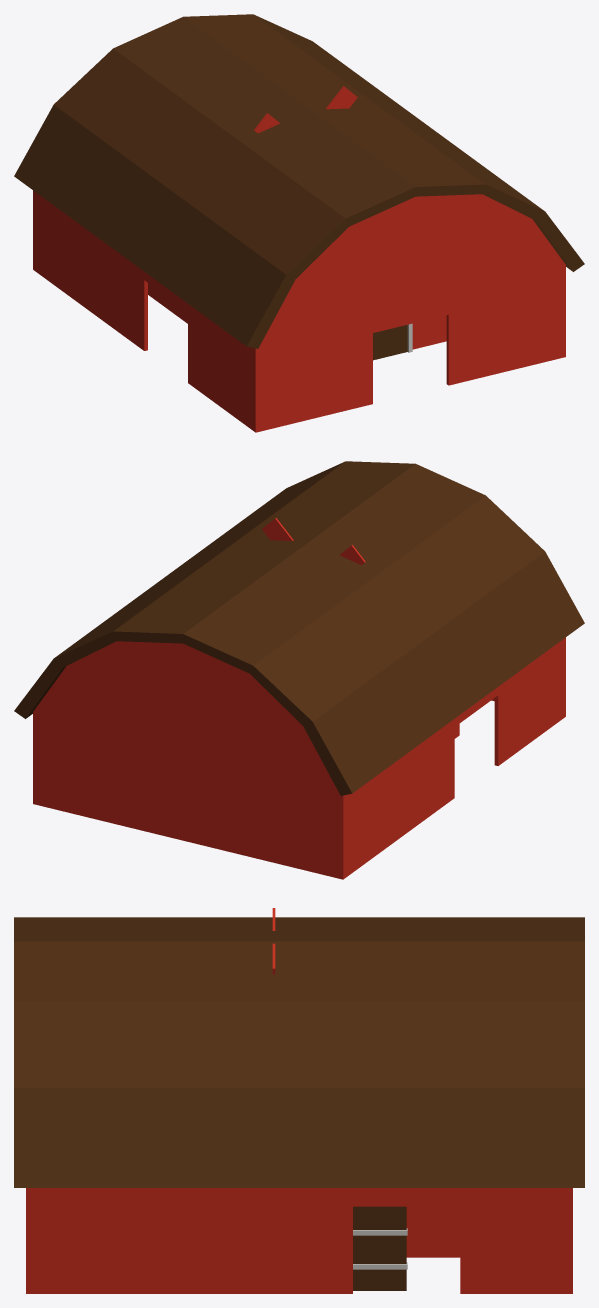
Rendered from Barn.fbx.
3 renders of one model, top to bottom at view 1: azimuth 30°, elevation 25°; view 2: azimuth 150°, elevation 25°; view 3: azimuth 270°, elevation 25°, orthographic. The views are drawn at different scales.
Visible parts, largest first — view 1: Base, Barn, Rotor; view 2: Base, Rotor; view 3: Base, Door, Barn.
Part boxes in pixels (left/top/right/bottom): Base: left=14, top=14, right=584, bottom=432; Barn: left=148, top=283, right=446, bottom=360; Rotor: left=254, top=86, right=357, bottom=133; Base: left=14, top=461, right=584, bottom=879; Rotor: left=262, top=518, right=365, bottom=564; Base: left=14, top=917, right=584, bottom=1293; Door: left=353, top=1206, right=407, bottom=1290; Barn: left=406, top=1206, right=460, bottom=1257.
Size of the model in its own units: 1789 by 1151 by 2130.
